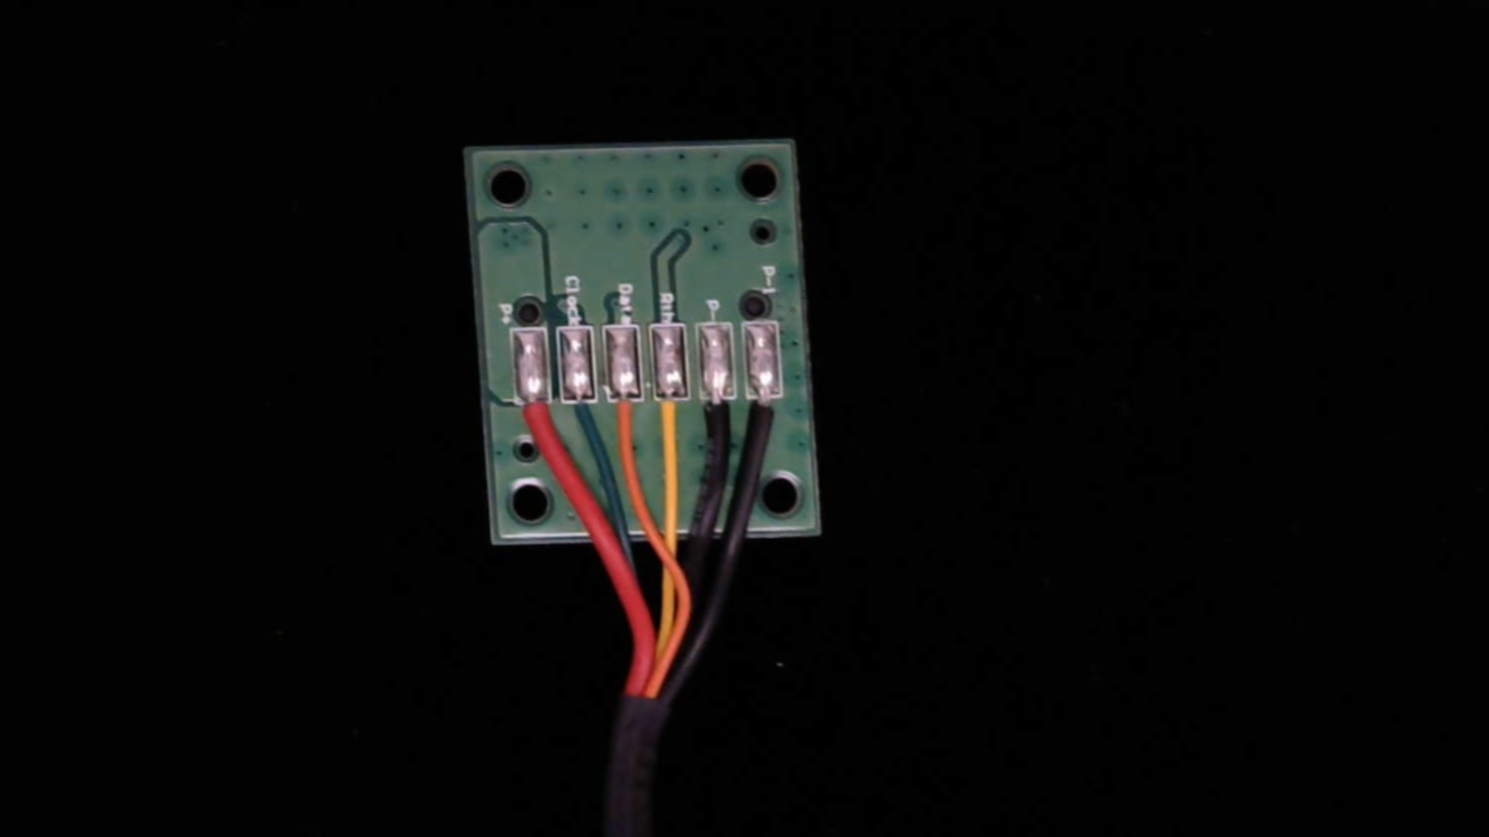Black: (700, 379, 736, 446)
Black1: (747, 379, 782, 454)
Green: (560, 377, 599, 451)
Orange: (605, 379, 643, 458)
Red: (513, 378, 553, 446)
Yellow: (653, 378, 689, 455)
